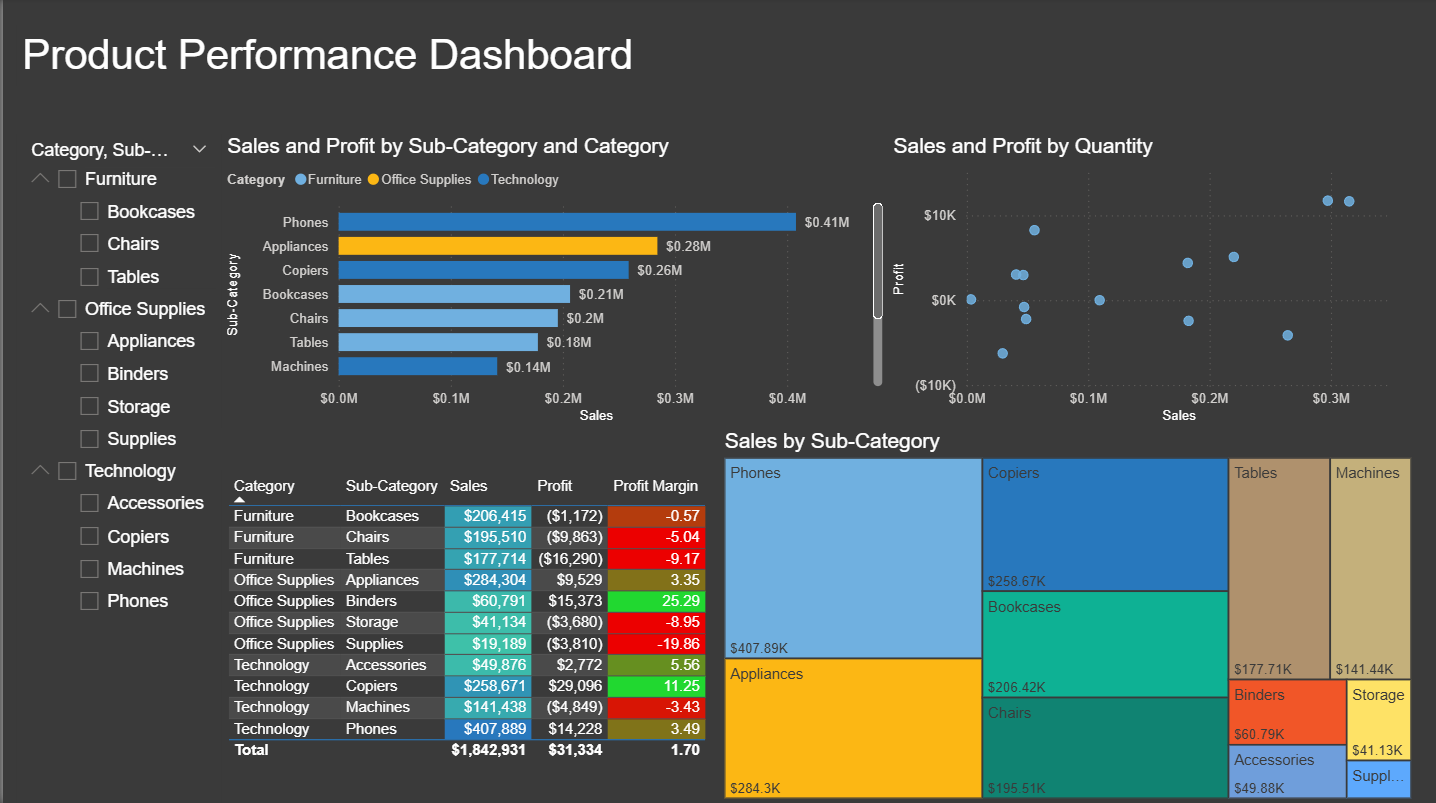

Layout of this report page (visuals, bound fields, positions):
{"tool":"powerbi","page":{"name":"Product Dashboard","canvas":[1280,720],"ordinal":1},"visuals":[{"type":"barChart","fields":{"Y":["Sum(Global-Superstore.Sales)"],"Category":["Global-Superstore.Sub-Category"],"Series":["Global-Superstore.Category"]},"box":[195.3,122.1,595.4,262.8],"z":0},{"type":"scatterChart","fields":{"Y":["Sum(Global-Superstore.Profit)"],"Category":["Global-Superstore.Quantity"],"X":["Sum(Global-Superstore.Sales)"]},"box":[790.7,122.1,472.1,262.8],"z":1000},{"type":"slicer","fields":{"Values":["Global-Superstore.Category","Global-Superstore.Sub-Category"]},"box":[12.8,122.1,182.6,598.8],"z":2000},{"type":"treemap","fields":{"Values":["Sum(Global-Superstore.Sales)"],"Group":["Global-Superstore.Sub-Category"]},"box":[639.5,384.9,623.3,334.9],"z":3000},{"type":"tableEx","fields":{"Values":["Global-Superstore.Category","Global-Superstore.Sub-Category","Sum(Global-Superstore.Sales)","Sum(Global-Superstore.Profit)","Global-Superstore.Profit Margin","select"]},"box":[195.3,422.1,444.2,297.7],"z":4000},{"type":"textbox","box":[12.8,24.4,608.1,53.5],"z":5000}]}

Visuals, with their boxes in screenshot pixels (x1, y1, x2, y2), scaled from the page's 1280x720 canvas onto the 1436x803 screenshot:
barChart - Sum(Global-Superstore.Sales) x Global-Superstore.Sub-Category: l=219, t=136, r=887, b=429
scatterChart - Sum(Global-Superstore.Profit) x Global-Superstore.Quantity: l=887, t=136, r=1417, b=429
slicer - Global-Superstore.Category x Global-Superstore.Sub-Category: l=14, t=136, r=219, b=802
treemap - Sum(Global-Superstore.Sales) x Global-Superstore.Sub-Category: l=717, t=429, r=1417, b=802
tableEx - Global-Superstore.Category x Global-Superstore.Sub-Category: l=219, t=471, r=717, b=802
textbox: l=14, t=27, r=697, b=87
